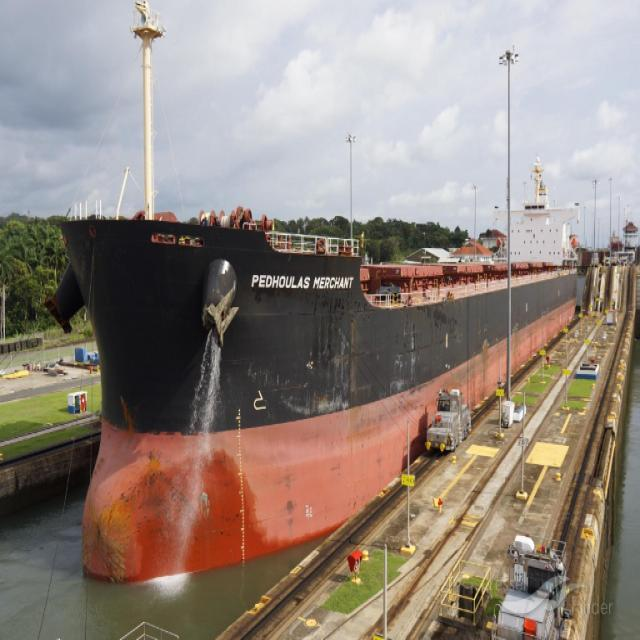Bulk Carrier: (60, 1, 582, 579)
